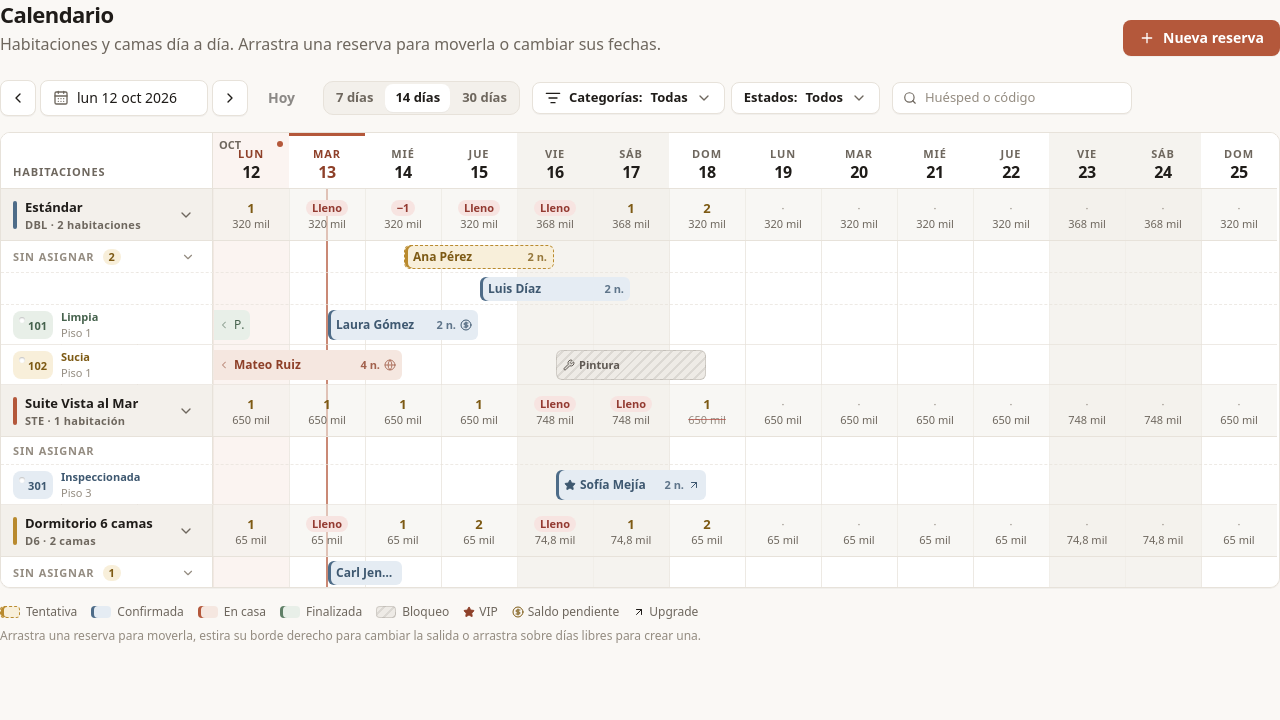
Test case: booking side panel › opens with the booking summary and the actions the front desk can take
Click the button "Laura Gómez 2 n." at (403, 325), box [328,310,478,340]
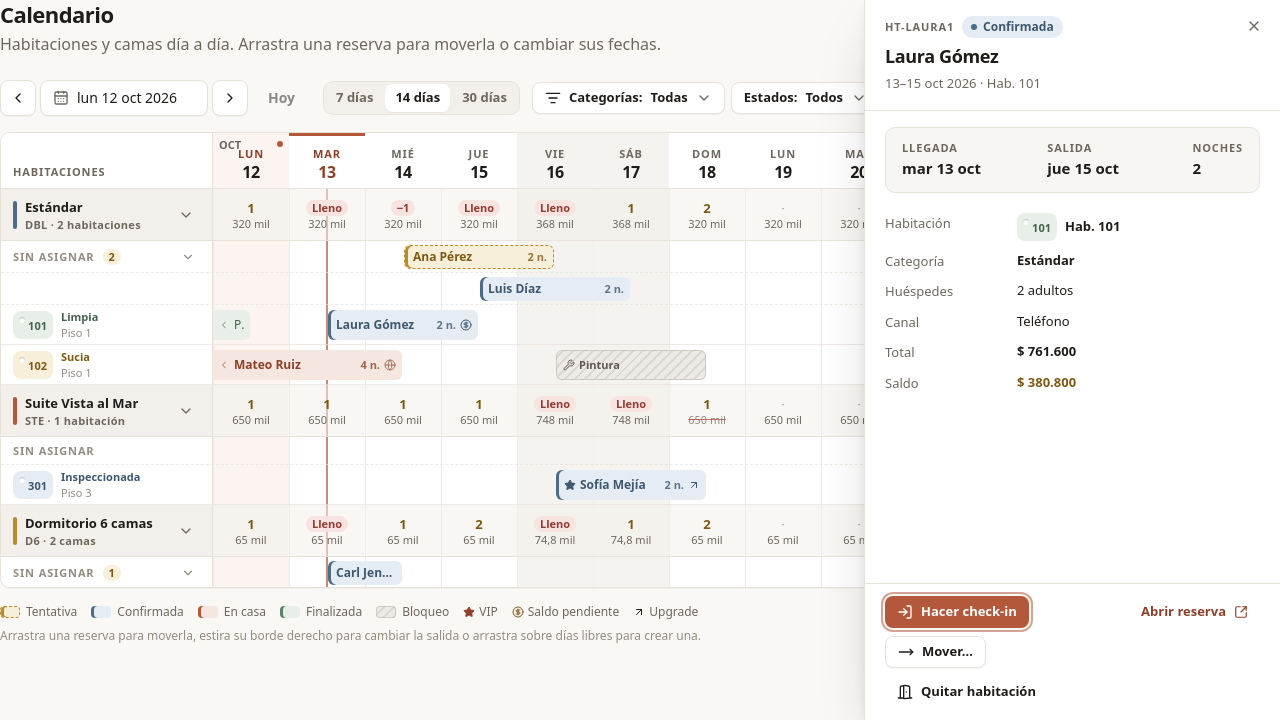
expect the heading "Laura Gómez" is shown: met, box [885,44,998,68]
expect the text "HT-LAURA1" is shown: met, box [885,19,954,35]
expect the text "Confirmada" is shown: met, box [962,16,1063,38]
